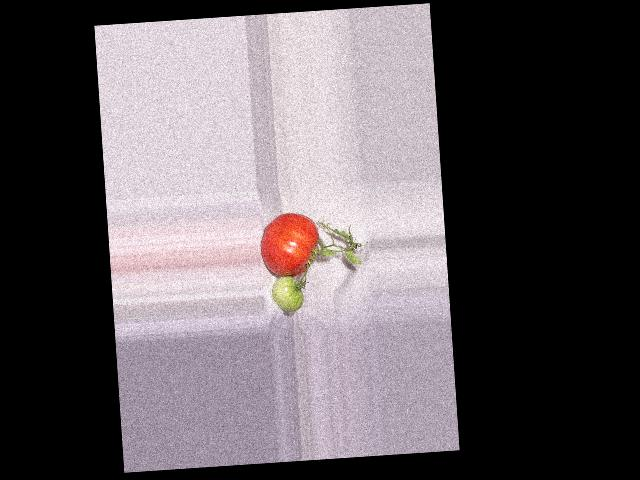tomato: (258, 211, 321, 278)
